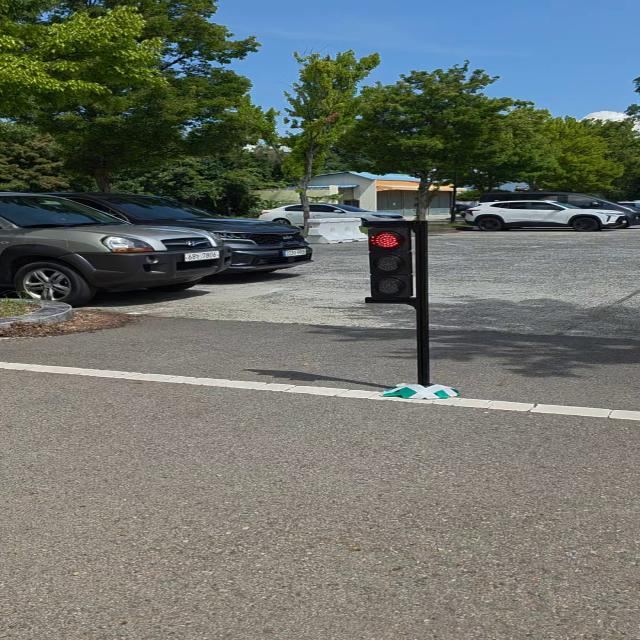red: (356, 212, 432, 312)
